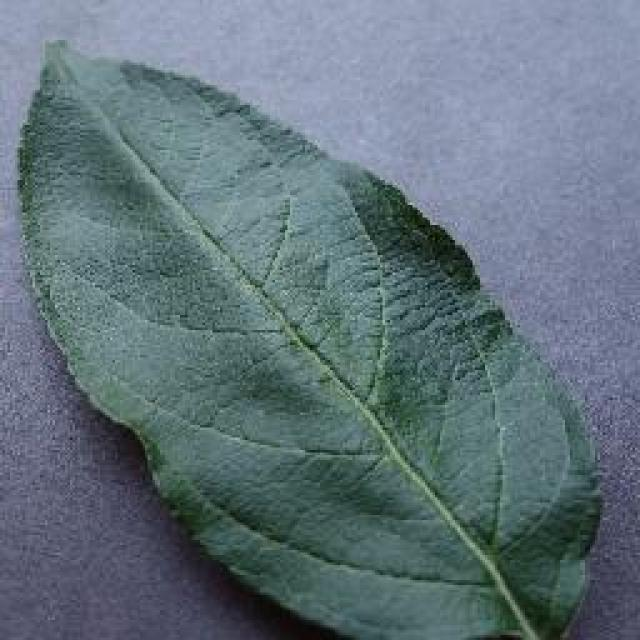apple healthy: (13, 35, 605, 637)
